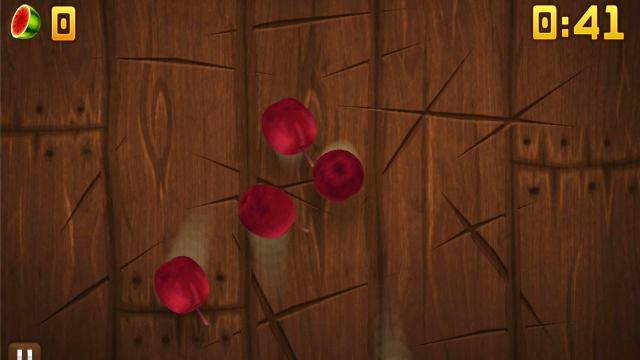fruit: (152, 253, 212, 327), (238, 183, 298, 239), (262, 97, 316, 157), (311, 147, 365, 201)
ignore: (9, 3, 43, 41)
